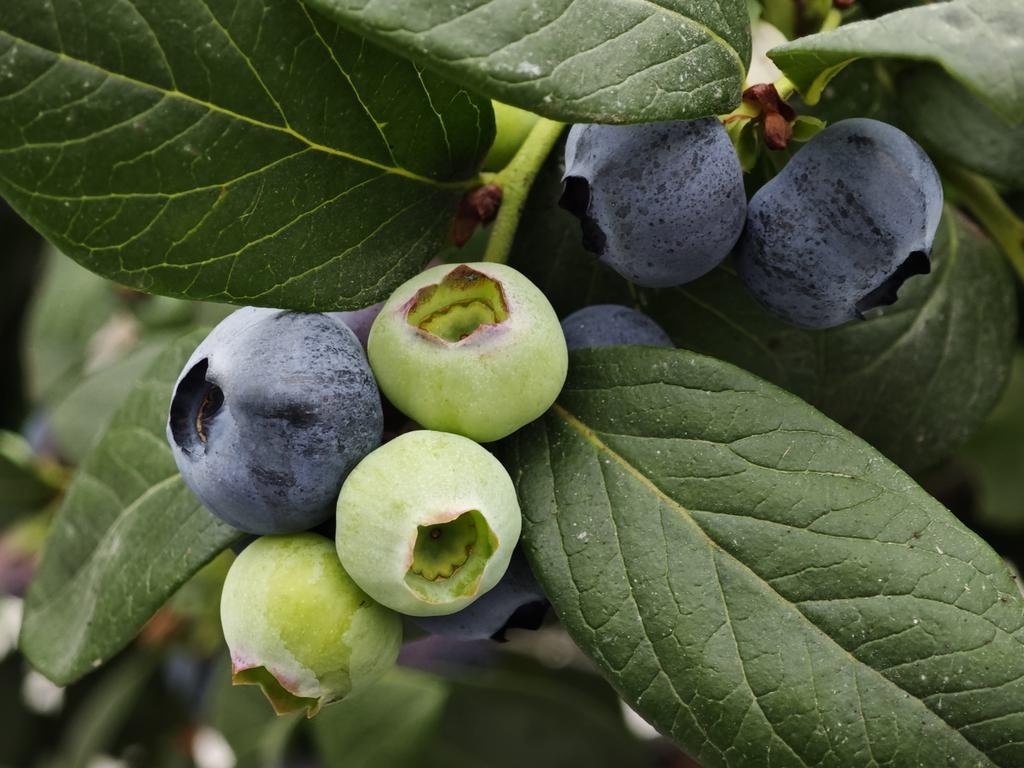RipeBlueBerry: (170, 307, 361, 528), (751, 117, 944, 334), (564, 119, 750, 289)
UnripeBlueBerry: (334, 433, 524, 617), (372, 266, 569, 437), (223, 542, 403, 719)
